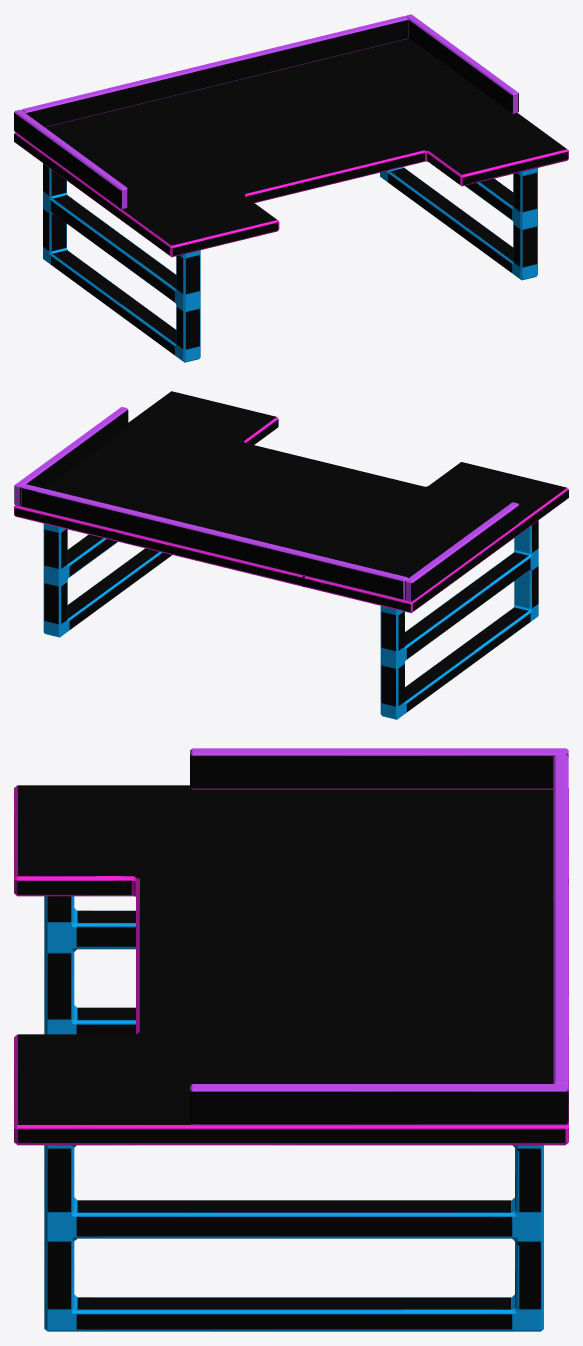
The model's file is Desk_Wood_Prop.fbx.
3 renders of one model, top to bottom at view 1: azimuth 30°, elevation 25°; view 2: azimuth 150°, elevation 25°; view 3: azimuth 270°, elevation 25°, orthographic. The views are drawn at different scales.
Visible parts, largest first — view 1: Desk_Prop; view 2: Desk_Prop; view 3: Desk_Prop.
Boxes of the visible parts, x1=… form: Desk_Prop: x1=14, y1=14, x2=568, y2=362; Desk_Prop: x1=14, y1=391, x2=568, y2=719; Desk_Prop: x1=14, y1=748, x2=568, y2=1331.
Bounding box in the file's own units: 698 × 249 × 478.
